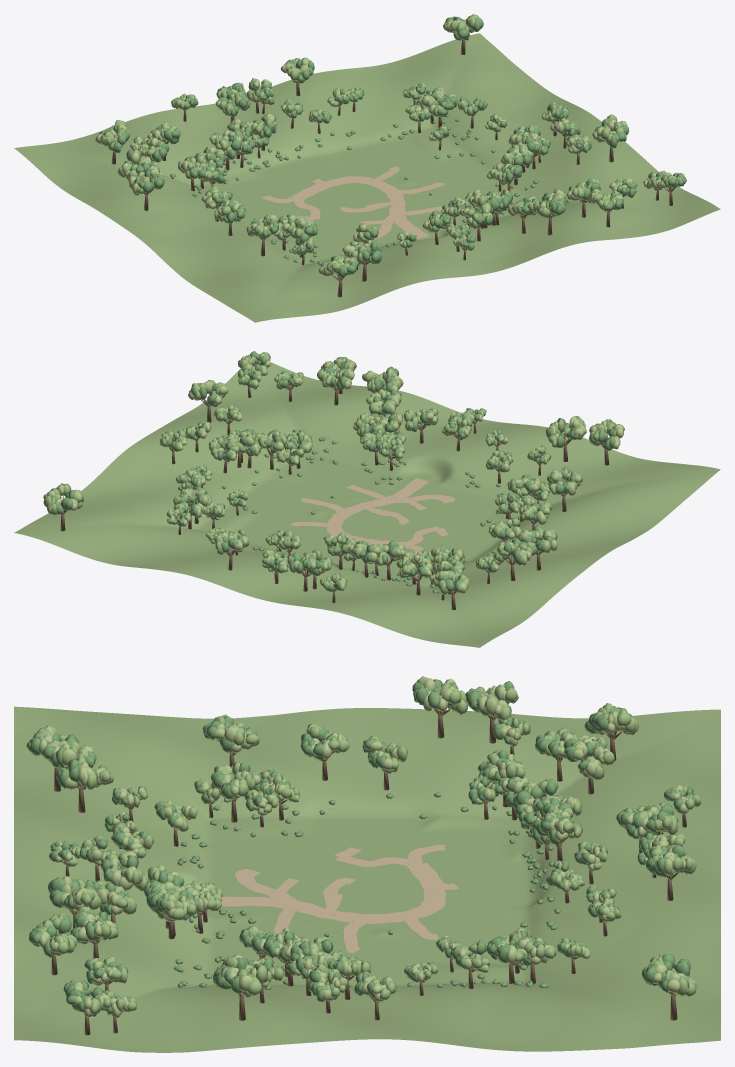
Rendered from ranch_landscape.glb.
The picture shows the model from 3 angles, top to bottom: view 1: azimuth 30°, elevation 25°; view 2: azimuth 150°, elevation 25°; view 3: azimuth 270°, elevation 25°; orthographic projection. The views are drawn at different scales.
Parts seen in each view (by area): view 1: Terrain-col, Leaf_0, Leaf_1, Leaf_2, Path, Bark; view 2: Terrain-col, Leaf_0, Leaf_1, Leaf_2, Bark, Path; view 3: Terrain-col, Leaf_0, Leaf_2, Leaf_1, Path, Bark.
Part boxes in pixels (<box>): Terrain-col: <box>14,33,720,322</box>; Leaf_0: <box>99,16,686,277</box>; Leaf_1: <box>100,14,681,276</box>; Leaf_2: <box>95,14,684,275</box>; Path: <box>262,166,444,239</box>; Bark: <box>111,29,676,297</box>; Terrain-col: <box>14,362,720,647</box>; Leaf_0: <box>51,351,617,593</box>; Leaf_1: <box>43,352,624,594</box>; Leaf_2: <box>43,353,623,593</box>; Bark: <box>60,365,609,609</box>; Path: <box>290,478,454,555</box>; Terrain-col: <box>14,706,720,1052</box>; Leaf_0: <box>26,679,695,1016</box>; Leaf_2: <box>38,678,696,1017</box>; Leaf_1: <box>32,676,700,1014</box>; Path: <box>221,844,458,953</box>; Bark: <box>48,708,686,1035</box>.
Bounding box in the file's own units: 97 × 11.84 × 87.
